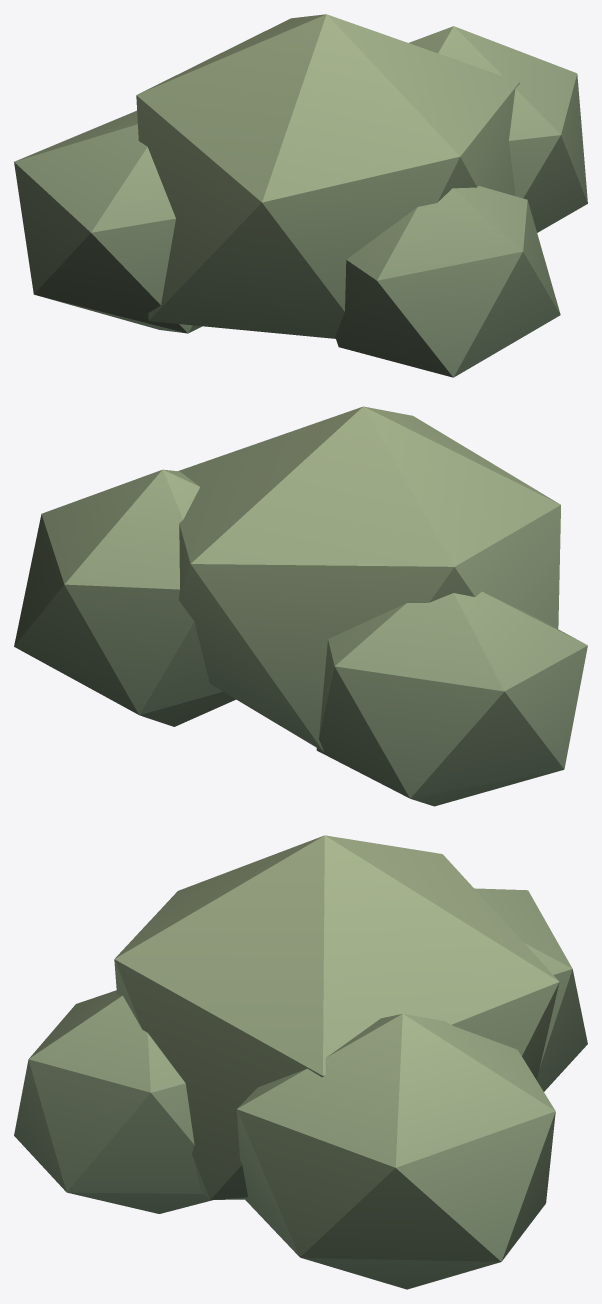
File: iv_bush.glb
3 views of the same model, one above another, from view 1: azimuth 30°, elevation 25°; view 2: azimuth 150°, elevation 25°; view 3: azimuth 270°, elevation 25° (orthographic). The views are drawn at different scales.
Parts seen in each view (by area): view 1: iv_bush; view 2: iv_bush; view 3: iv_bush.
Boxes of the visible parts, box(x1,y1,x2,y2) form: iv_bush: box(14, 14, 587, 377); iv_bush: box(14, 406, 587, 806); iv_bush: box(14, 835, 587, 1289).
Size of the model in its own units: 2.04 by 1.2 by 1.67.
